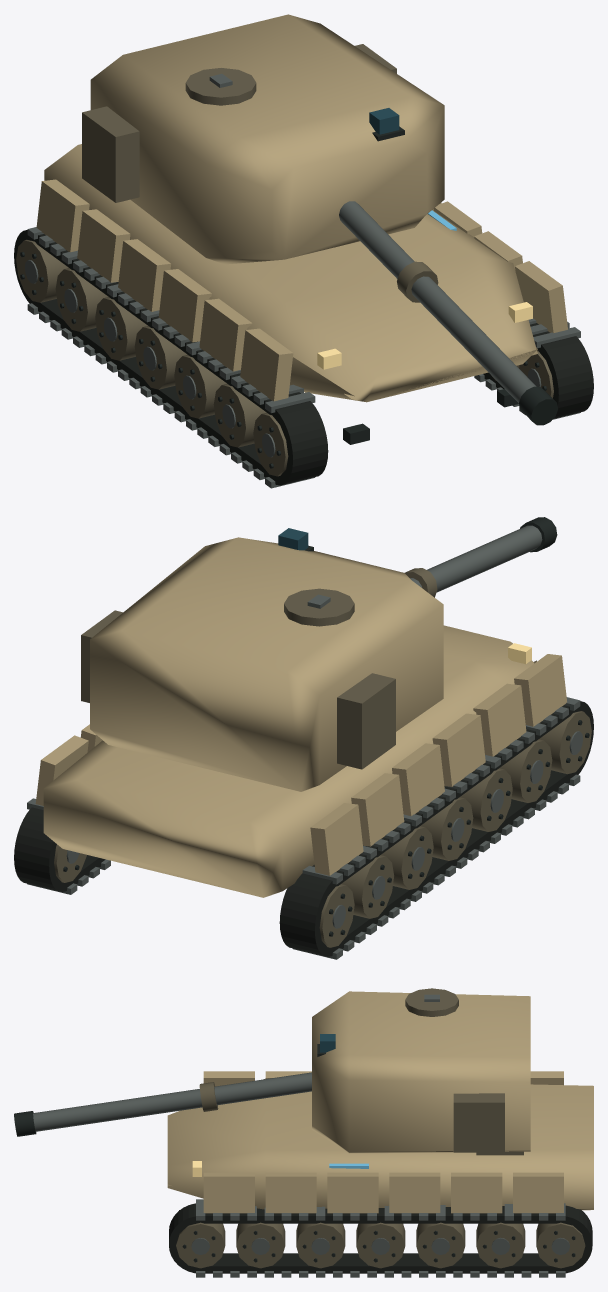
Rendered from artillery.glb.
3 views of the same model, one above another, from view 1: azimuth 30°, elevation 25°; view 2: azimuth 150°, elevation 25°; view 3: azimuth 270°, elevation 25° (orthographic). The views are drawn at different scales.
Visible parts, largest first — view 1: armor (×2), trim (×3), steel (×2), rubber, stowage, dark (×2), lamp, glass; view 2: armor (×2), trim (×2), rubber, steel (×2), stowage, dark (×2); view 3: armor (×2), trim (×3), steel (×2), rubber, stowage, dark (×2).
Part boxes in pixels (bbox=[...]): armor (×2): bbox=[36, 14, 567, 402]; trim (×3): bbox=[16, 68, 553, 476]; steel (×2): bbox=[25, 201, 580, 488]; rubber: bbox=[14, 230, 593, 485]; stowage: bbox=[82, 44, 396, 202]; dark (×2): bbox=[20, 252, 557, 468]; lamp: bbox=[317, 302, 532, 369]; glass: bbox=[369, 108, 399, 134]; armor (×2): bbox=[35, 537, 566, 897]; trim (×2): bbox=[54, 588, 591, 947]; rubber: bbox=[14, 701, 593, 956]; steel (×2): bbox=[27, 525, 582, 959]; stowage: bbox=[81, 610, 395, 769]; dark (×2): bbox=[63, 517, 589, 936]; armor (×2): bbox=[167, 991, 593, 1213]; trim (×3): bbox=[176, 988, 585, 1268]; steel (×2): bbox=[33, 1072, 569, 1277]; rubber: bbox=[169, 1203, 592, 1273]; stowage: bbox=[453, 1093, 504, 1152]; dark (×2): bbox=[14, 1111, 575, 1262].
Size of the model in its own units: 3.46 by 2.86 by 7.34.
